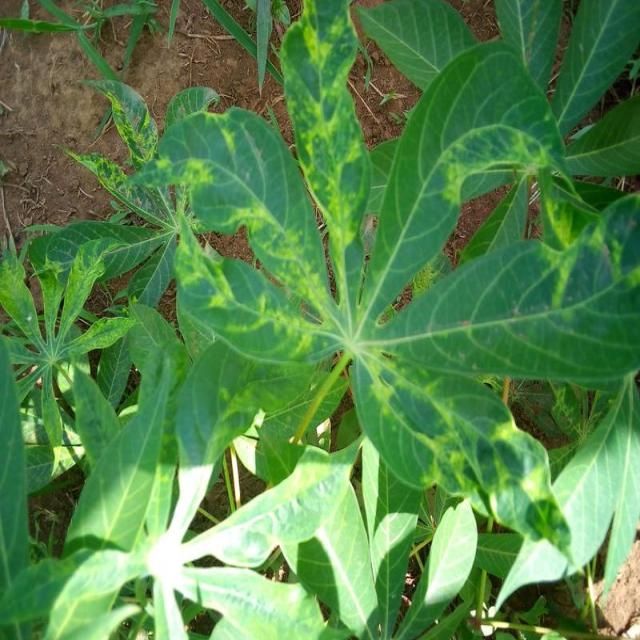cassava leaf: (6, 1, 640, 637)
